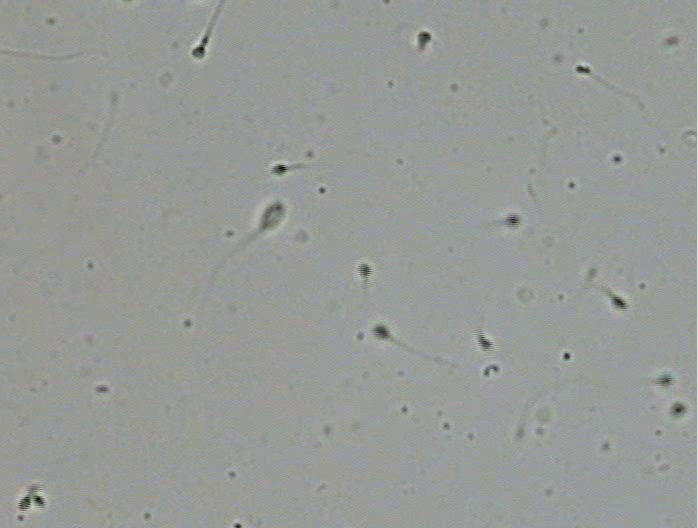S: (261, 202, 286, 229), (477, 333, 493, 352), (610, 294, 627, 310), (373, 325, 391, 340), (417, 31, 432, 49), (17, 495, 31, 511), (357, 262, 371, 278), (504, 214, 520, 227), (657, 373, 673, 386), (271, 163, 288, 175), (192, 45, 205, 59), (32, 494, 45, 508), (672, 404, 686, 416), (575, 65, 591, 75)
